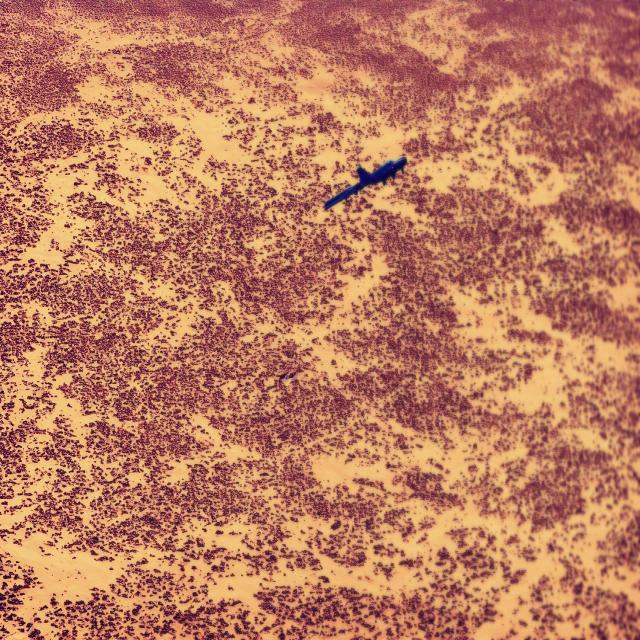airplane: (323, 155, 407, 211)
